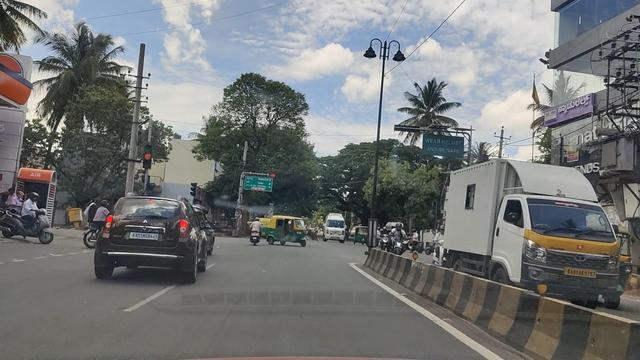LMV: (88, 200, 216, 289)
